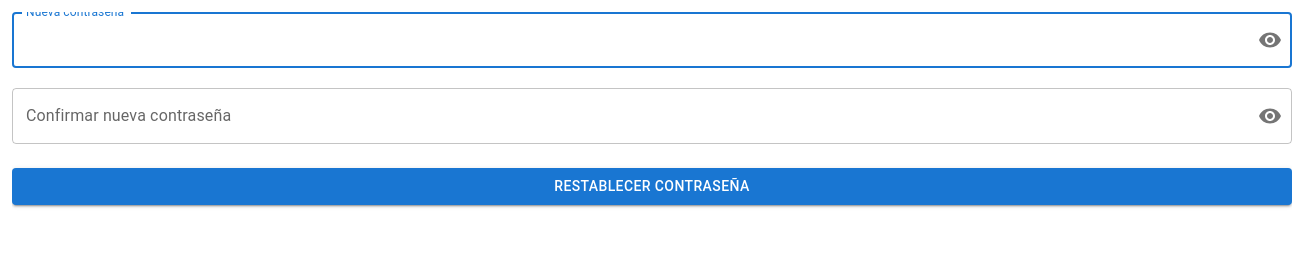
Test: ResetPasswordForm › form submission validation › should show validation error when passwords do not match
Type "NewPass123" into the password field labelled "Nueva contraseña" at (627, 40), box [12,12,1242,68]
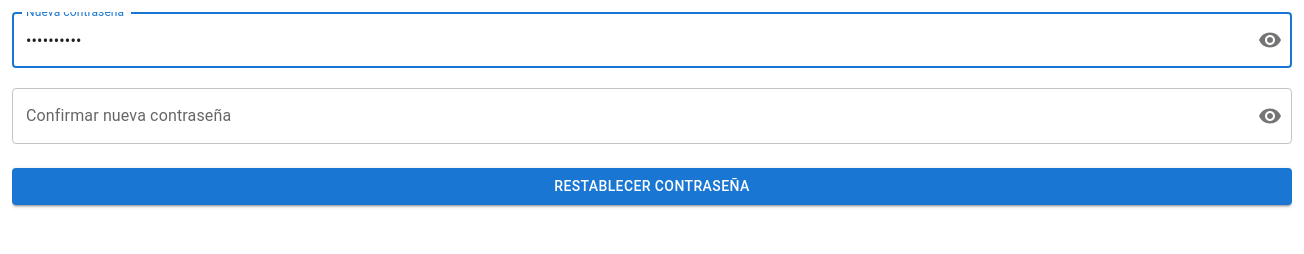
Type "DifferentPass456" into the password field labelled "Confirmar nueva contraseña" at (627, 116), box [12,88,1242,144]
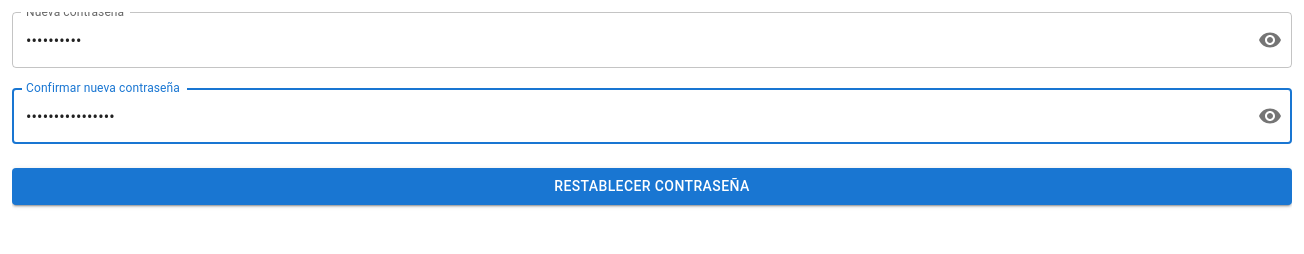
Click the button "Restablecer contraseña" at (652, 186), box [12,168,1292,204]
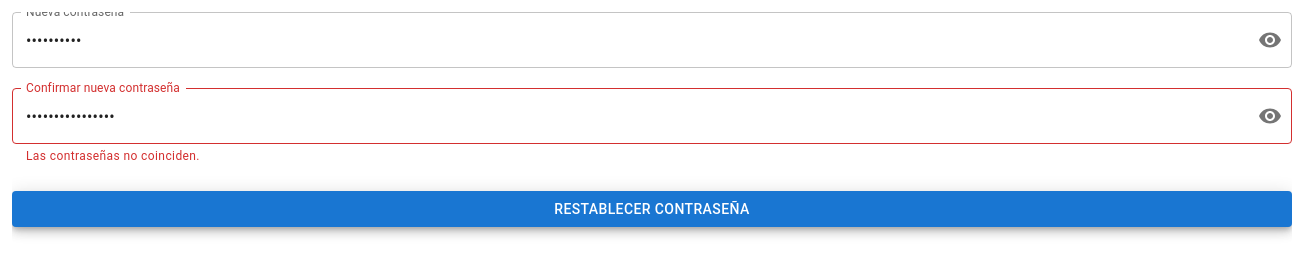
Result: the text "Las contraseñas no coinciden." is shown at [26,149,200,163]
